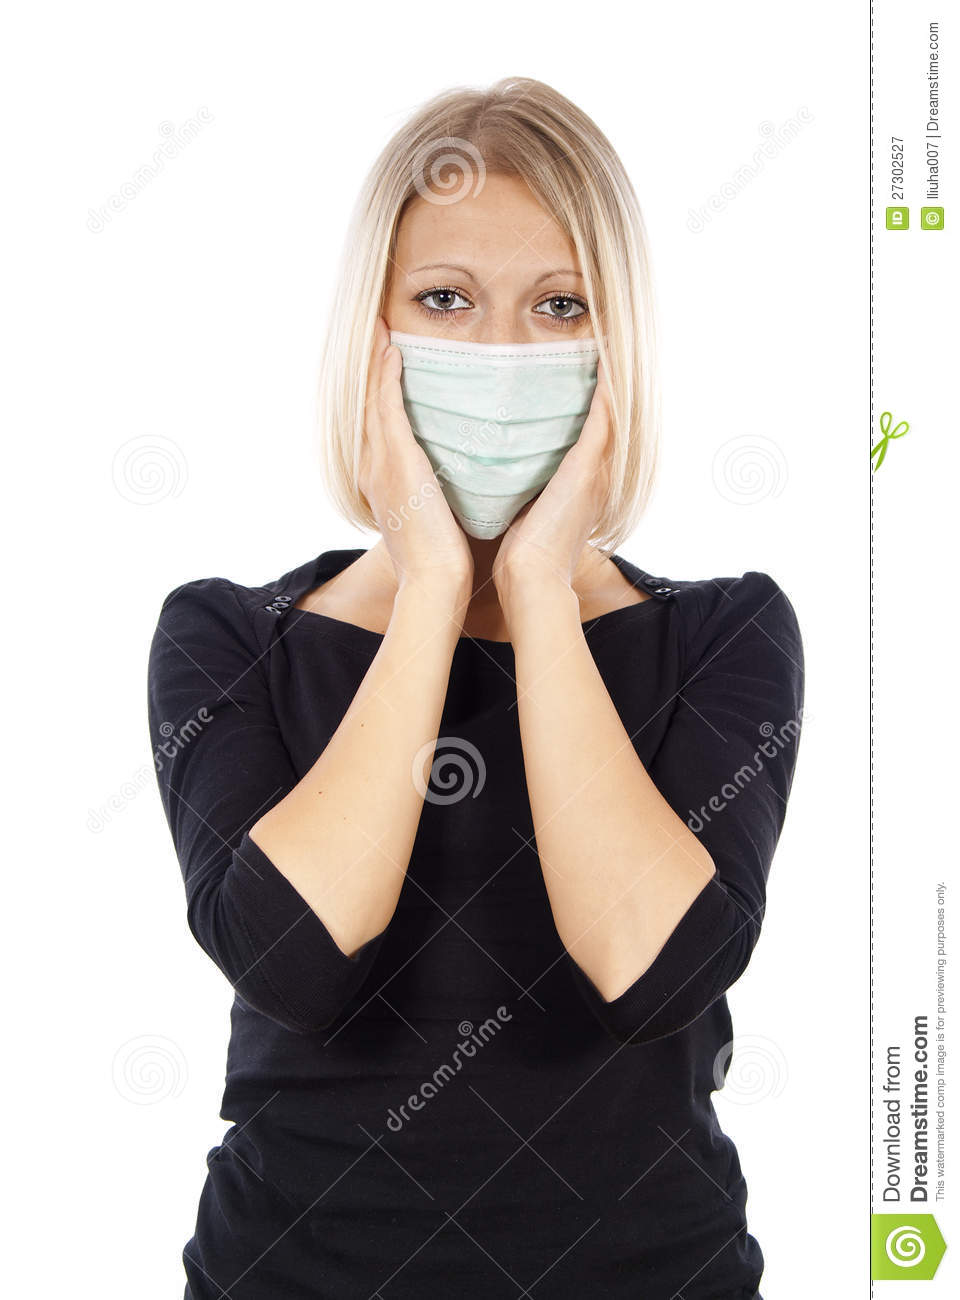mask: (378, 326, 611, 548)
